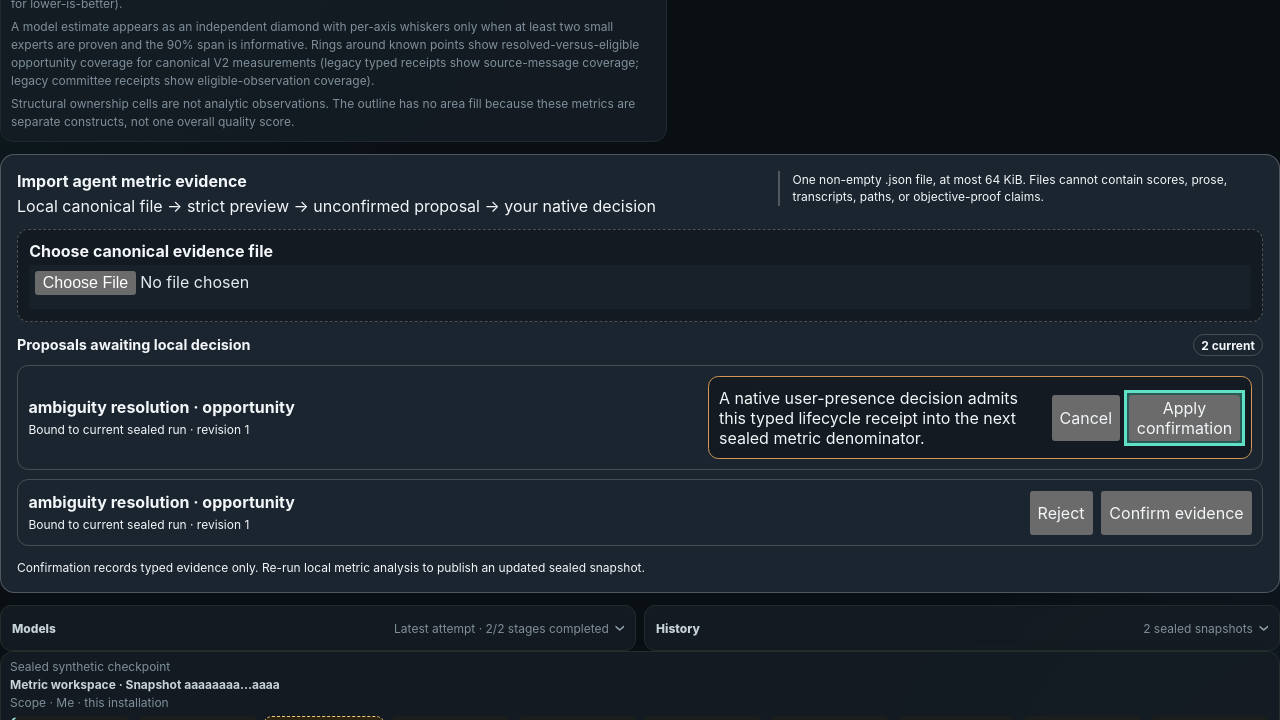
Test: UI-03 through UI-07 synthetic integration tour › drops stale A state and actions synchronously across run and transport changes
This screenshot has width=1280, height=720.
Earlier steps of the test are not shown.
Later steps or results of the test are not shown.
(page scrolled)
Step 1. Click the button "Apply confirmation" → (1184, 418), box left=1129, top=395, right=1240, bottom=441
(page scrolled)
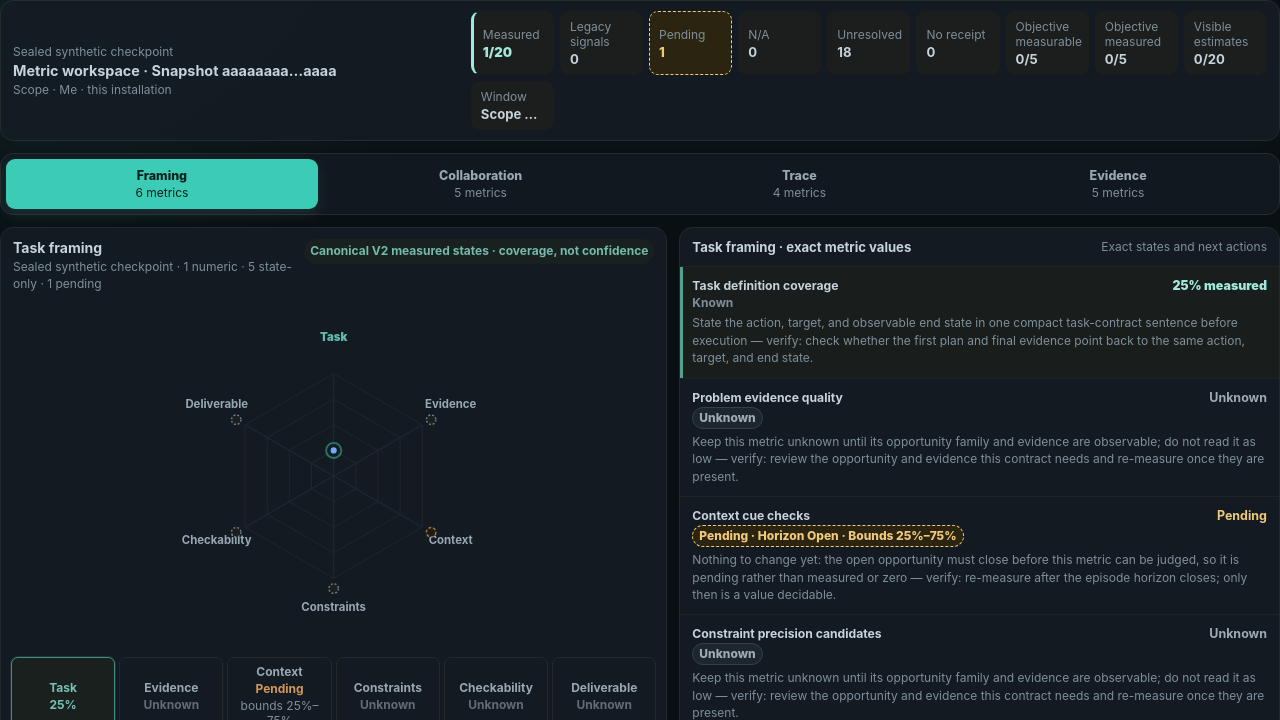
Step 2. Click the button "Task definition coverage" → (980, 322), box left=680, top=267, right=1279, bottom=378
(page scrolled)
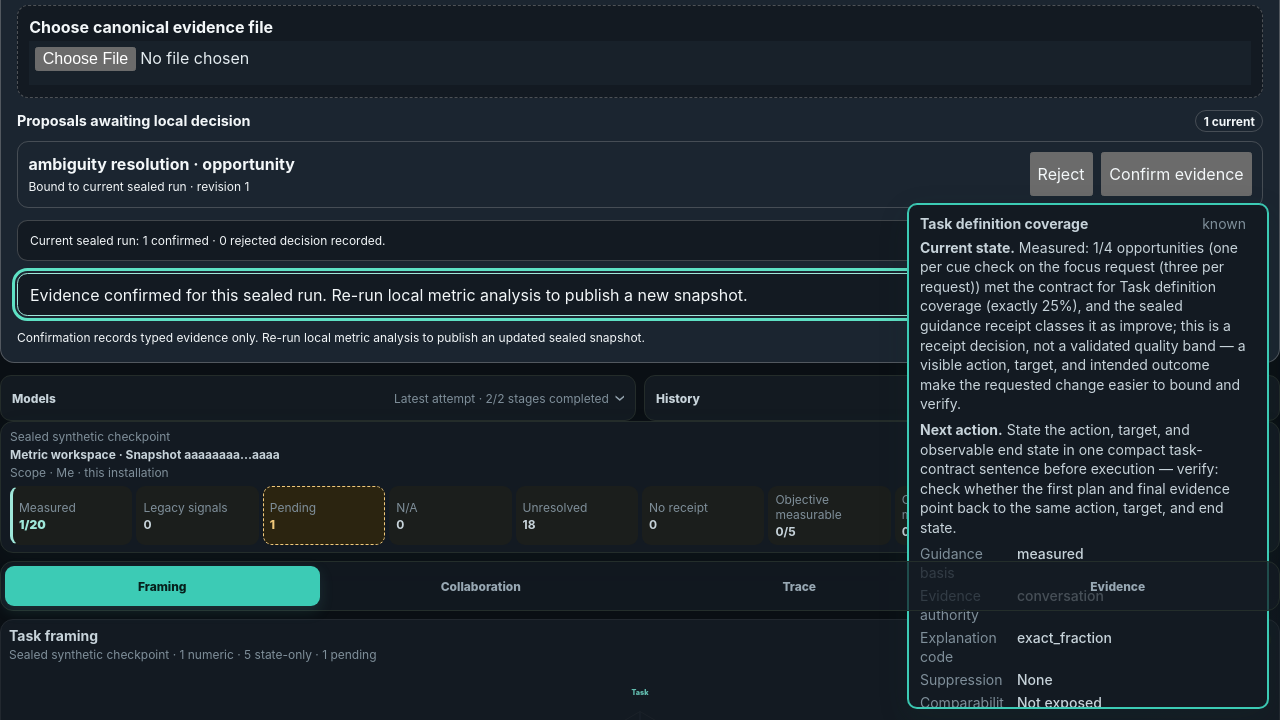
Now the element named "task definition coverage knowledge card" is shown, box left=908, top=204, right=1268, bottom=708
Step 3. Click the heading "Models Latest attempt · 2/2 stages completed" → (34, 398), box left=12, top=391, right=609, bottom=406
(page scrolled)
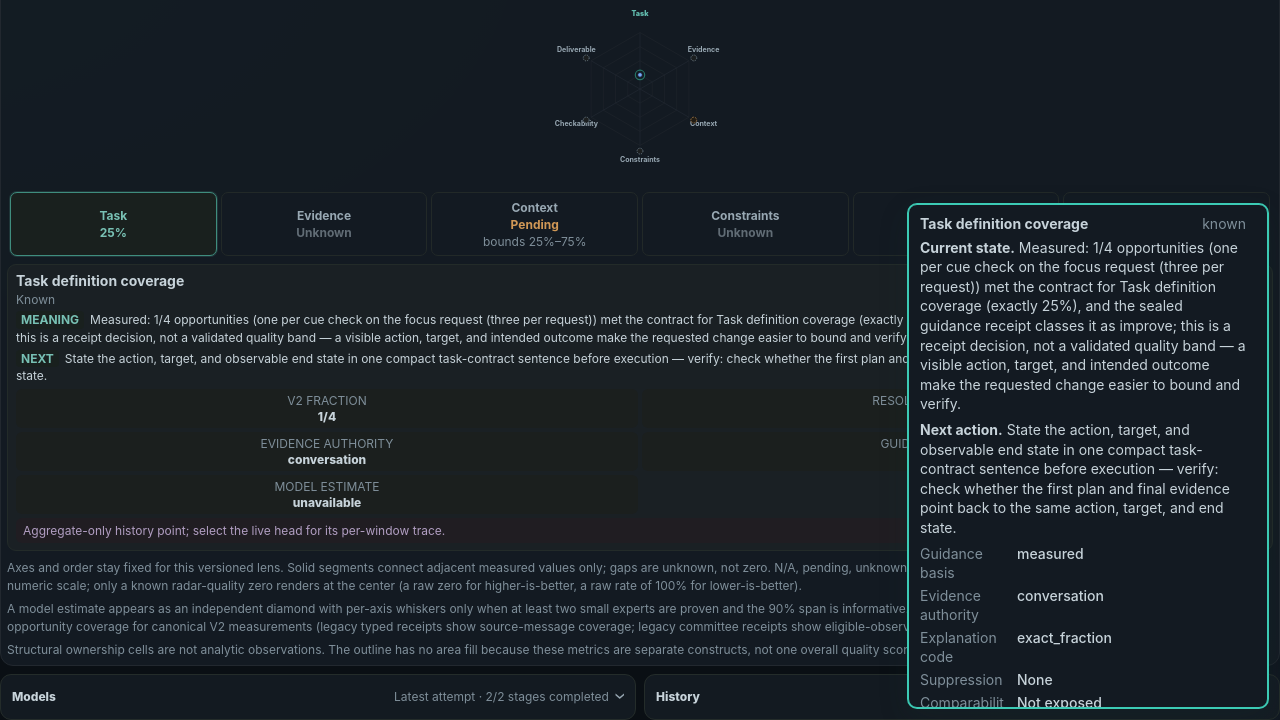
Step 4. Click the heading "Models Latest attempt · 2/2 stages completed" → (34, 697), box left=12, top=689, right=609, bottom=704
(page scrolled)
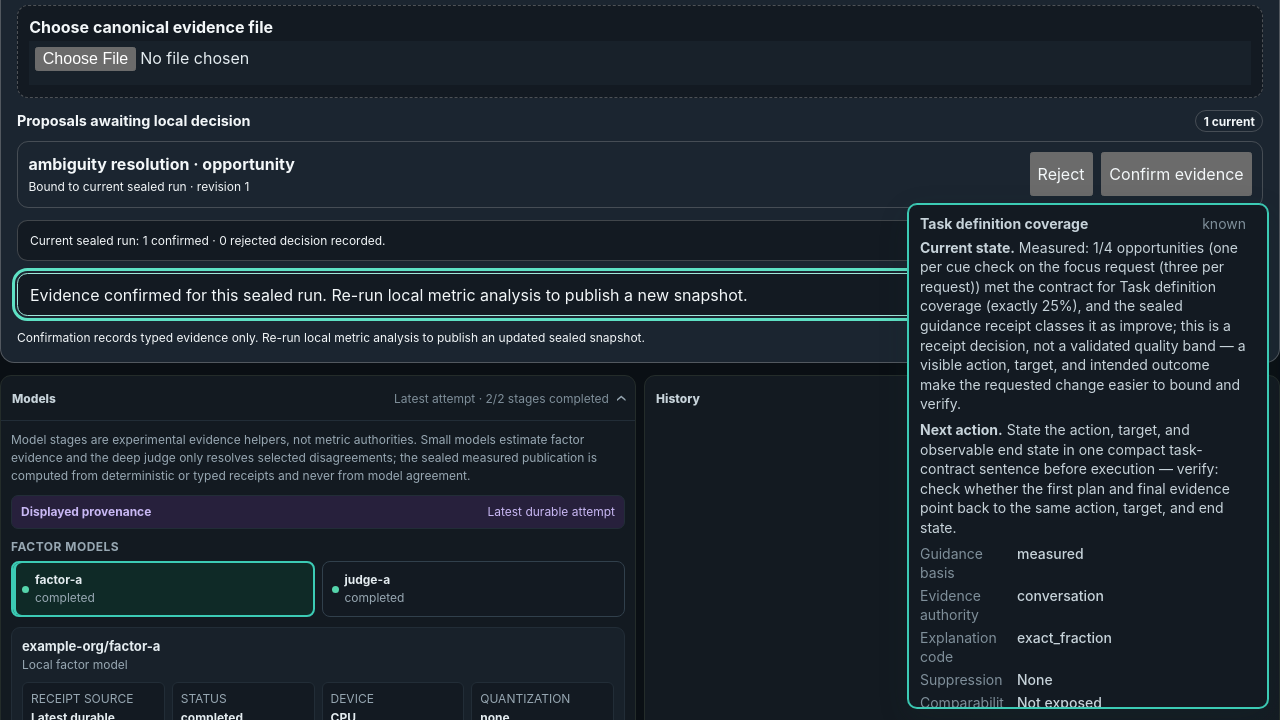
Step 5. Click the heading "History 2 sealed snapshots" → (678, 398), box left=656, top=391, right=1253, bottom=406
(page scrolled)
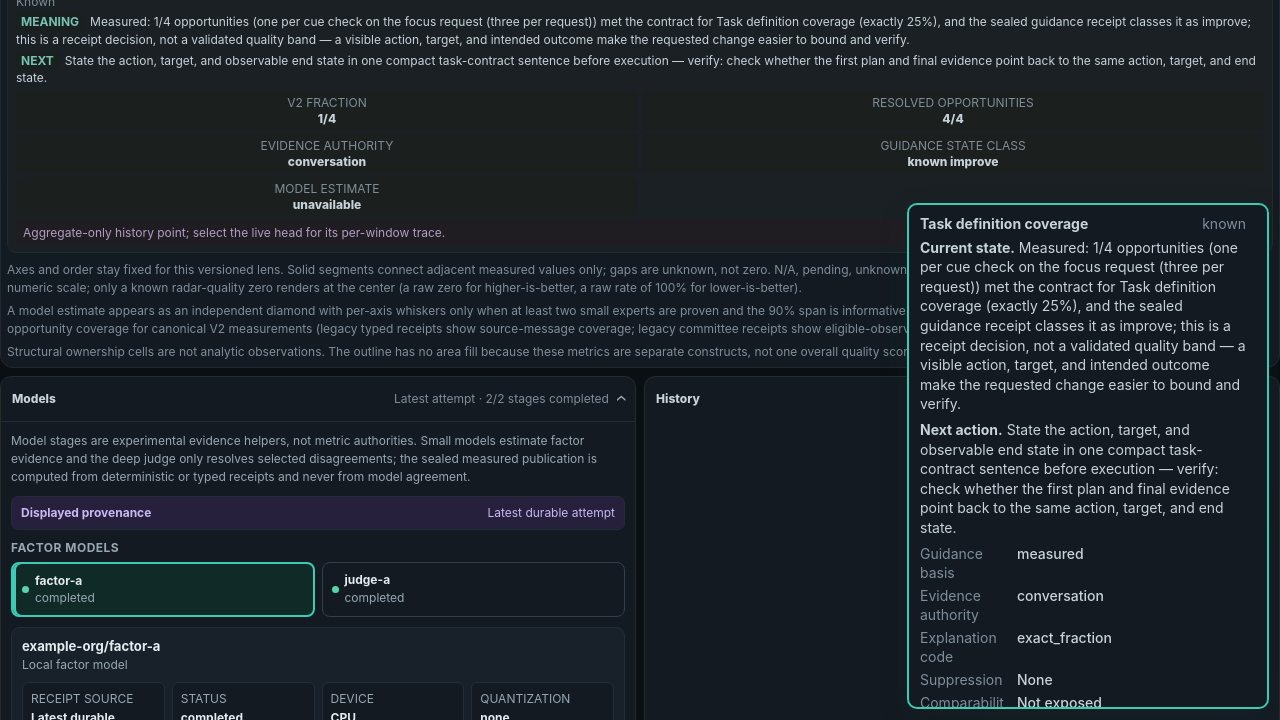
Step 6. Click the heading "History 2 sealed snapshots" → (678, 399), box left=656, top=391, right=1253, bottom=406
(page scrolled)
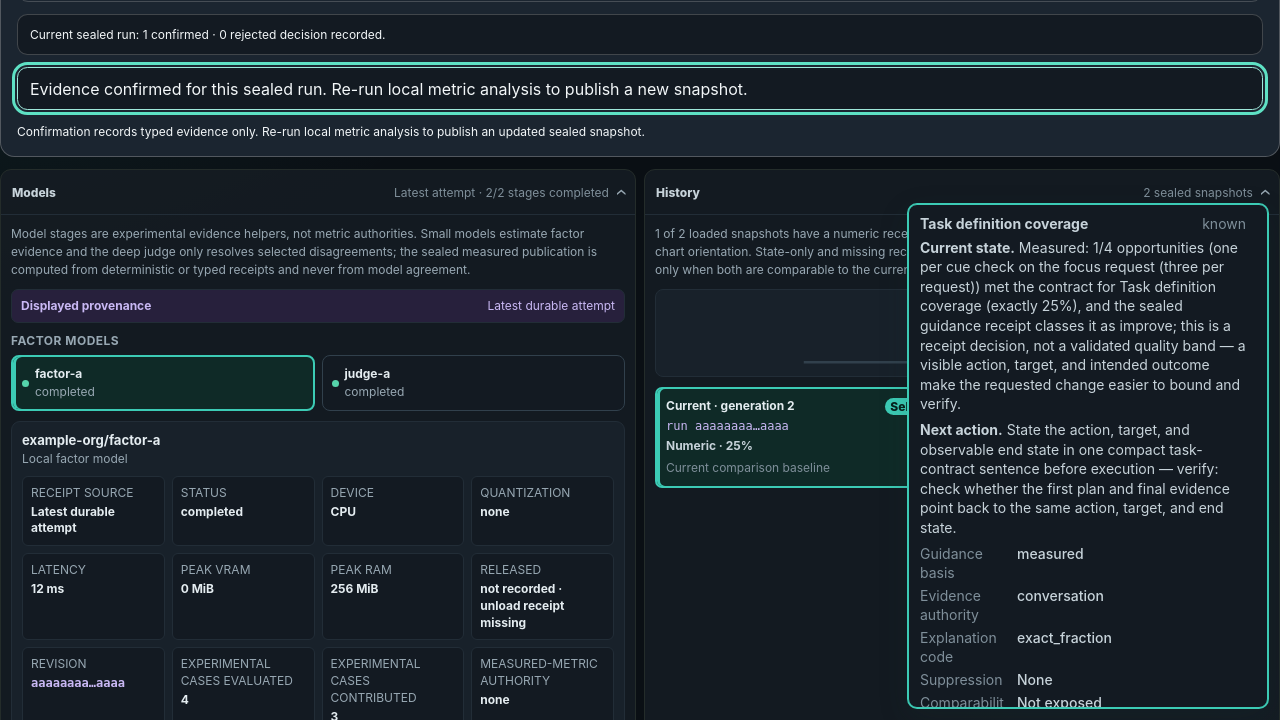
Now the heading "example-org/factor-a" is shown, box left=22, top=432, right=160, bottom=448
